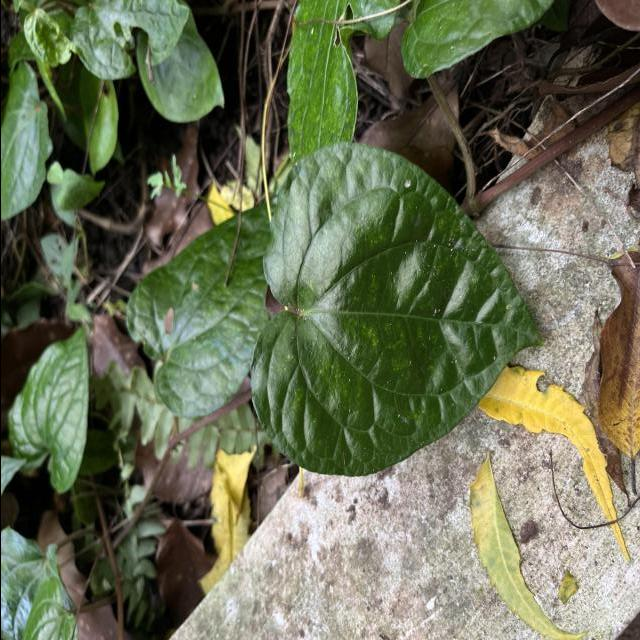Piper betle: (243, 138, 551, 480)
